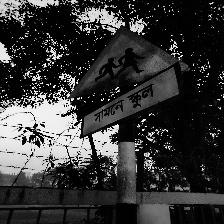School-in-front: (69, 27, 189, 138)
